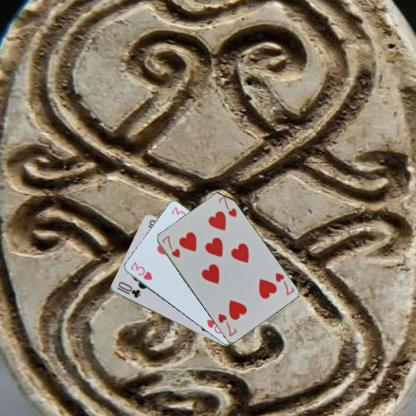10c: (114, 279, 141, 299)
3h: (128, 260, 153, 282)
7h: (272, 270, 295, 296), (159, 233, 181, 259)
